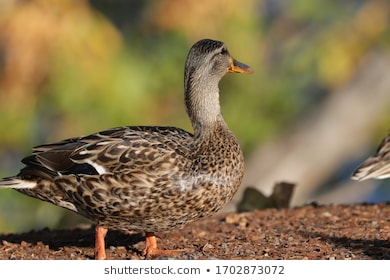duck: (1, 14, 272, 259)
